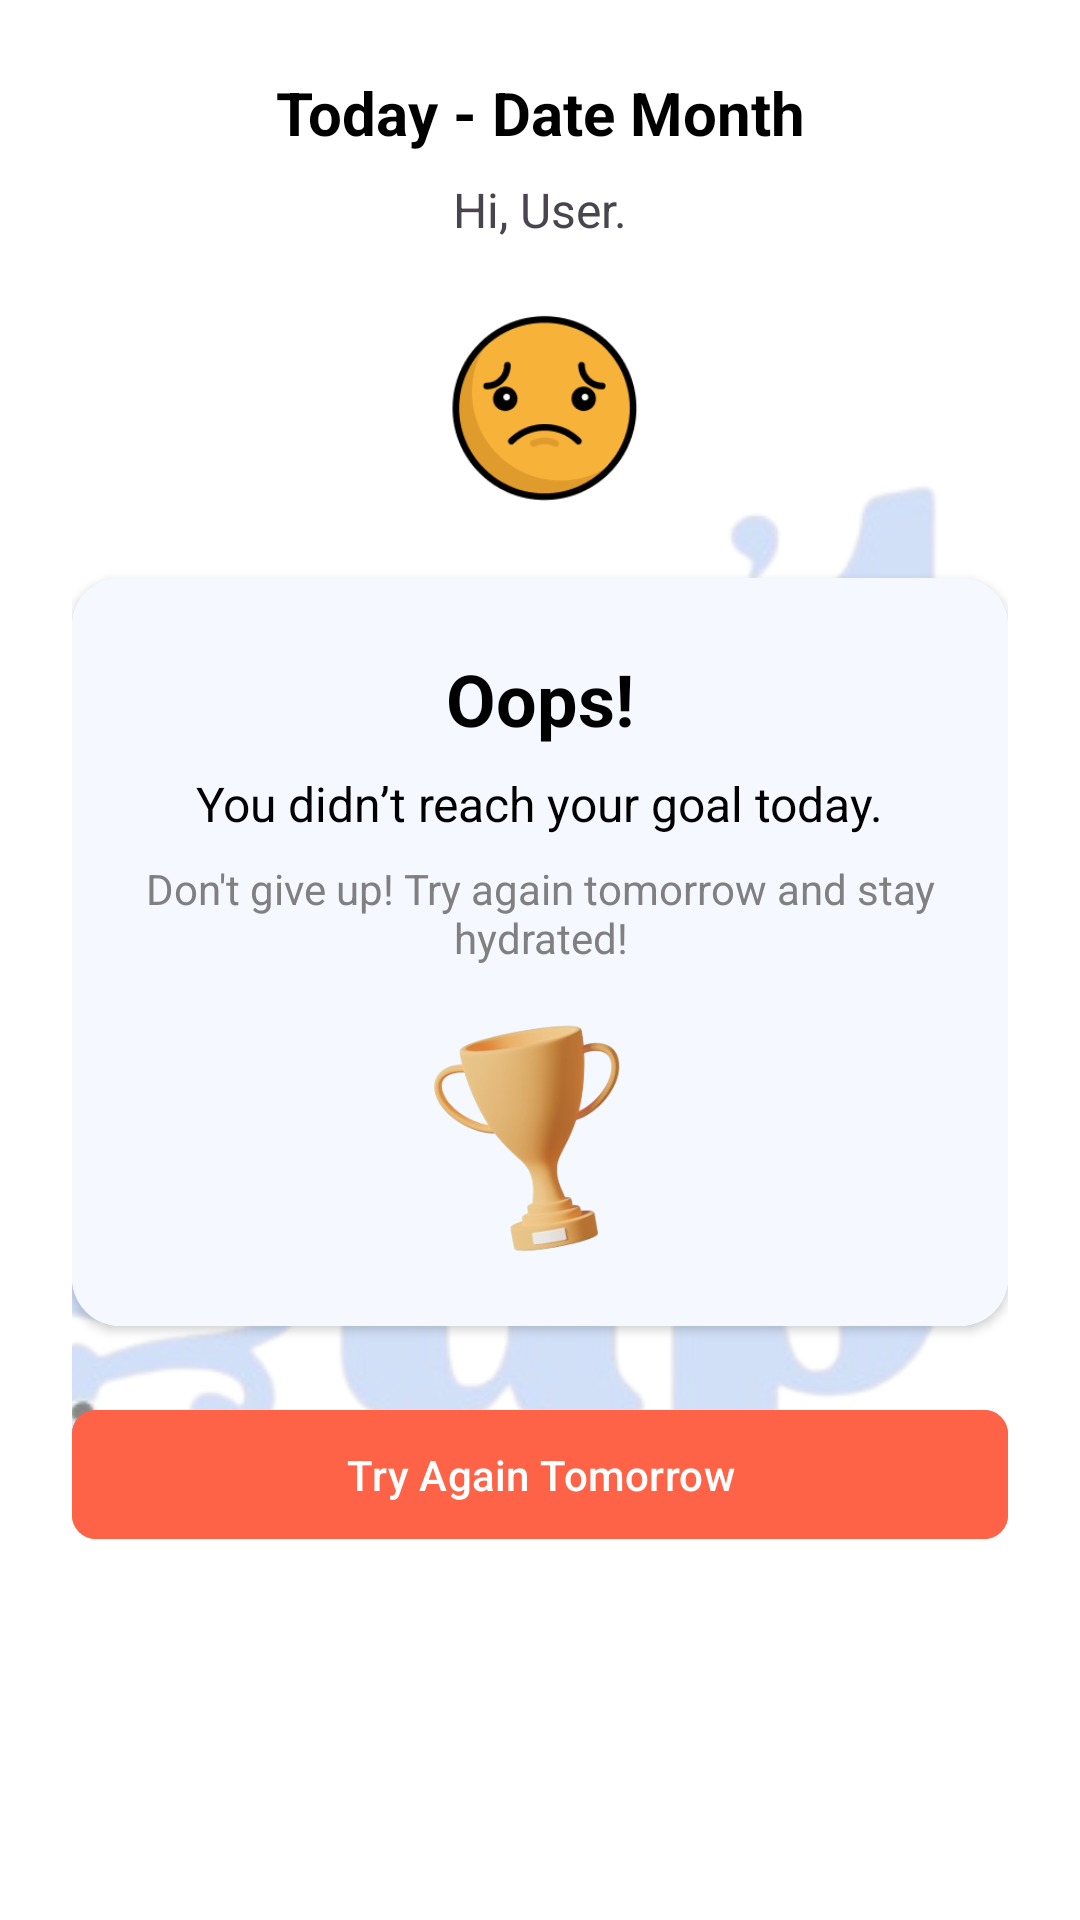

Icons on this 1080px x 1920px Android screen, each with the point to tap as [x,y]:
piala: [527,1138]
sad emoji: [544,408]
